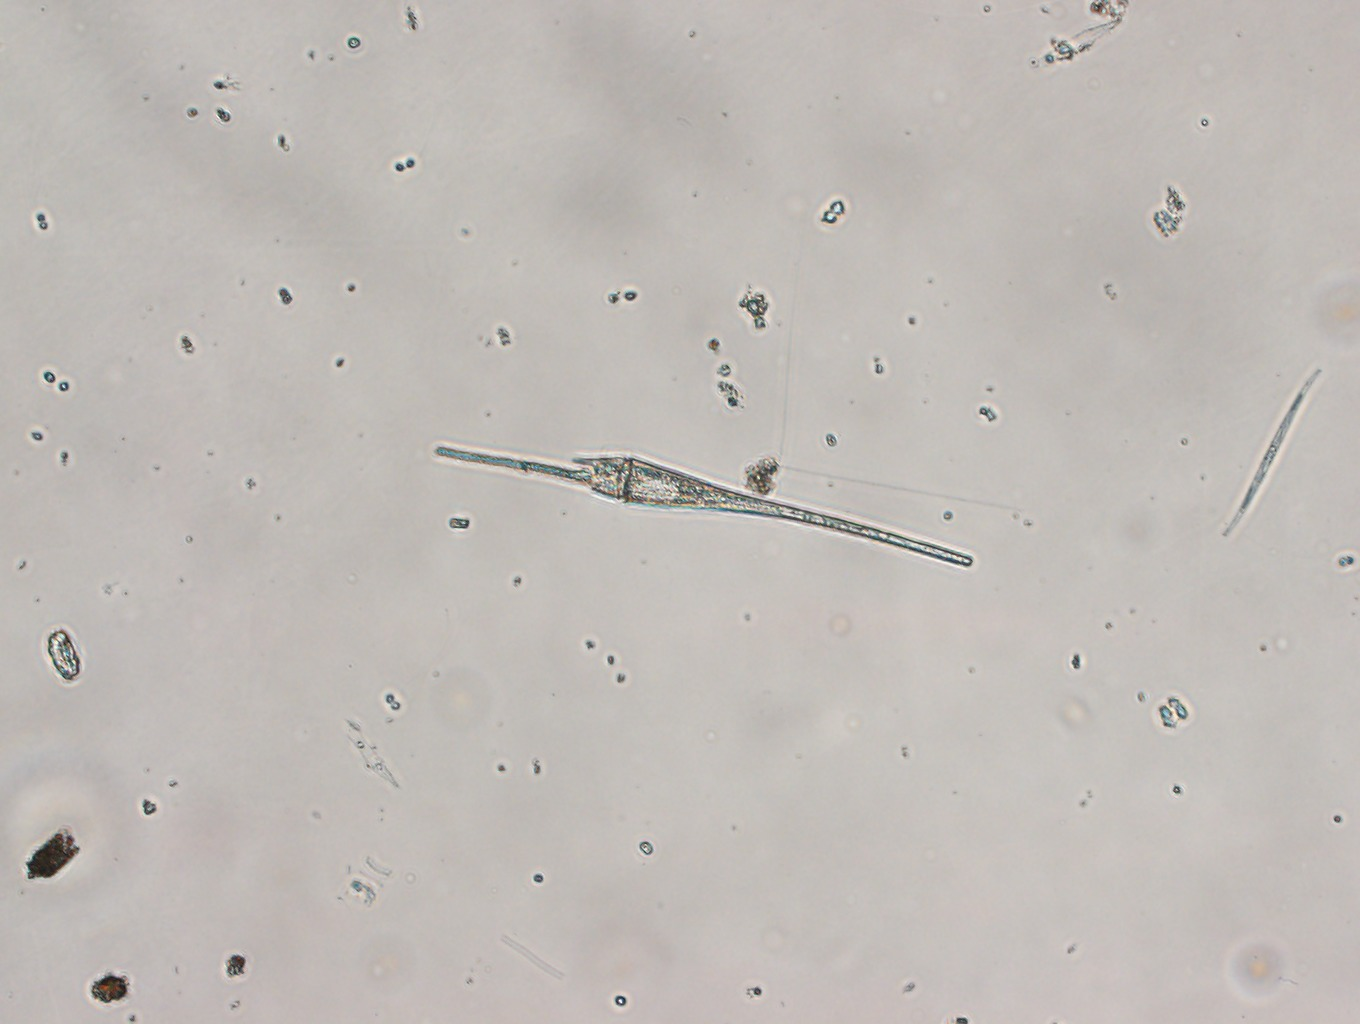ceratium fusus: (431, 443, 977, 569)
